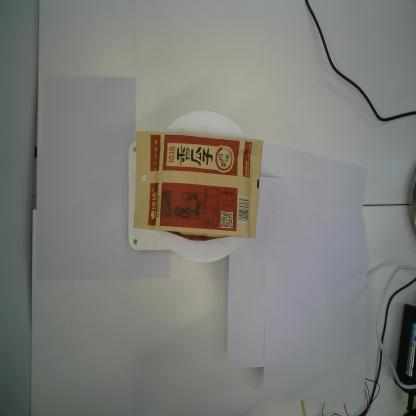Dried Food: (133, 130, 264, 240)
